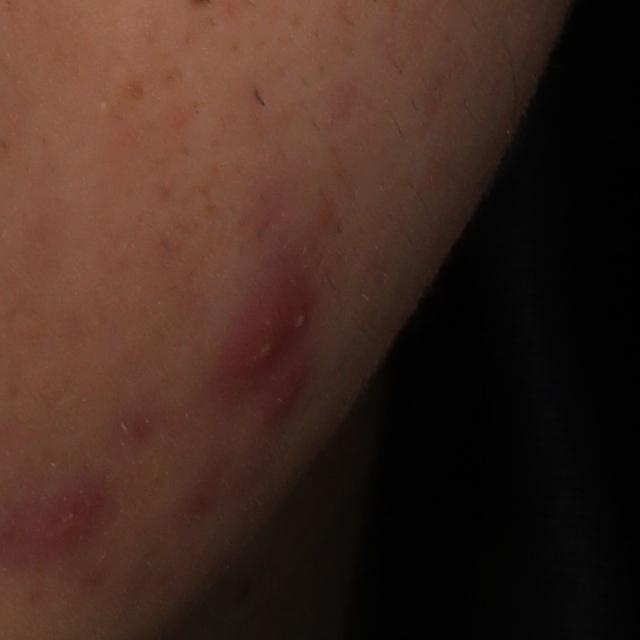papule: (13, 477, 103, 556), (265, 367, 303, 423)
